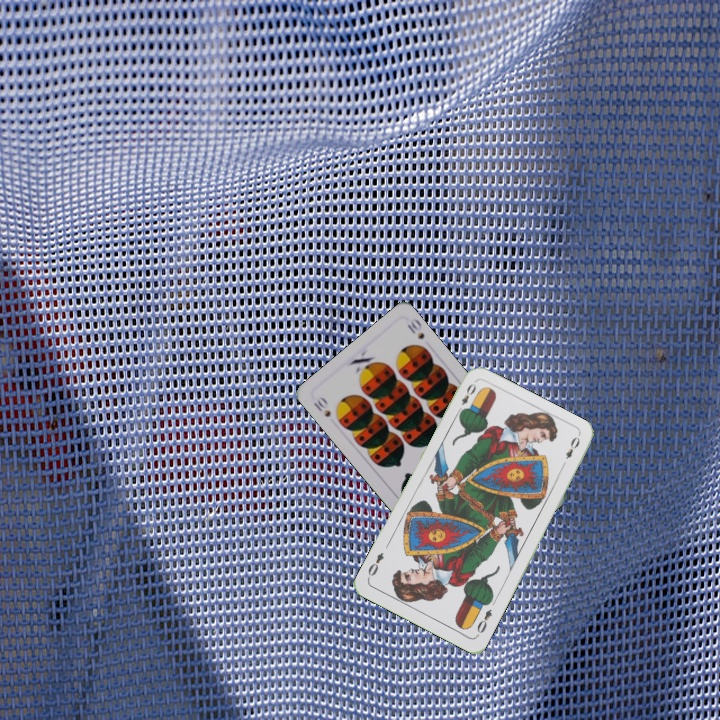EO: (454, 379, 479, 416), (473, 605, 494, 639)
S10: (309, 392, 333, 420)
